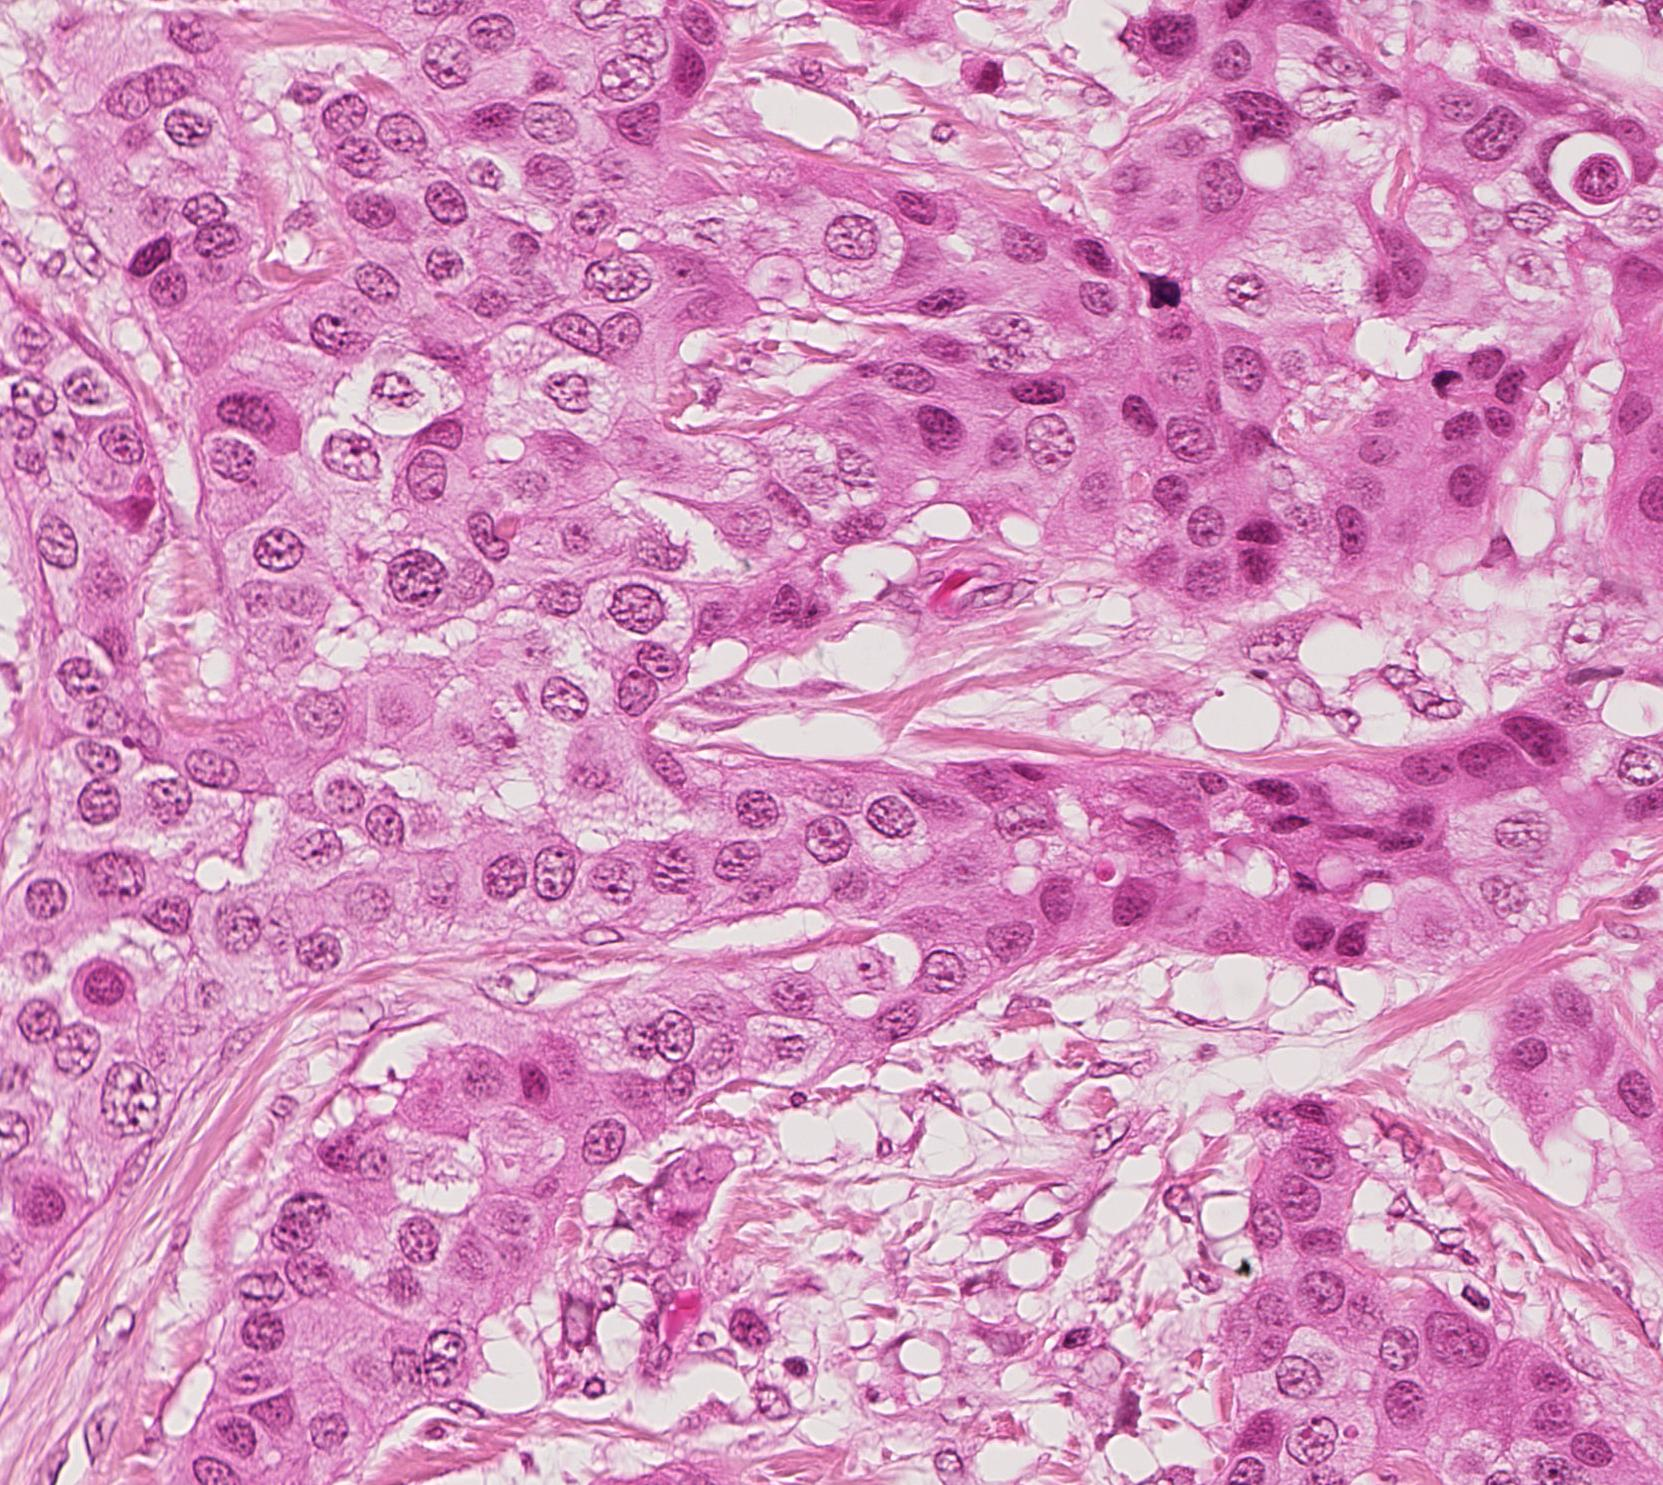mitosis: (227, 376, 285, 436)
